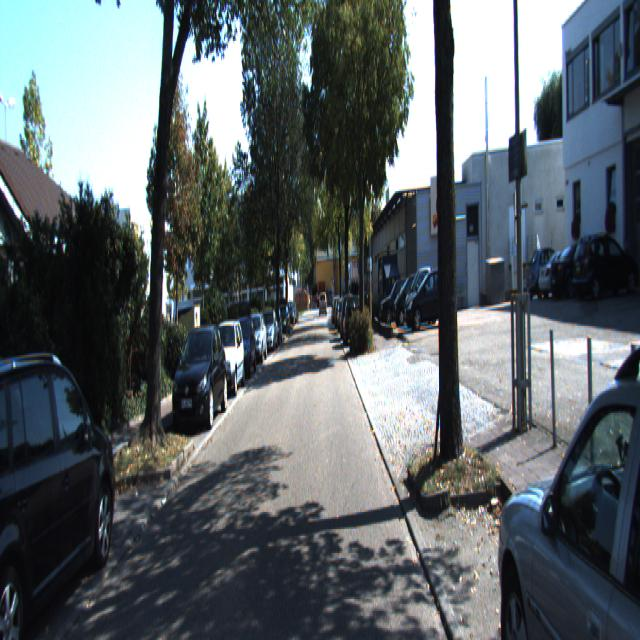Car: (487, 304, 639, 638), (0, 342, 119, 638), (170, 317, 228, 433), (549, 230, 617, 299), (571, 228, 639, 296), (534, 239, 600, 297), (404, 264, 458, 334), (521, 242, 582, 296), (207, 318, 246, 400), (390, 266, 430, 328), (228, 313, 256, 380), (243, 312, 267, 366), (343, 292, 363, 346), (258, 309, 278, 353)
